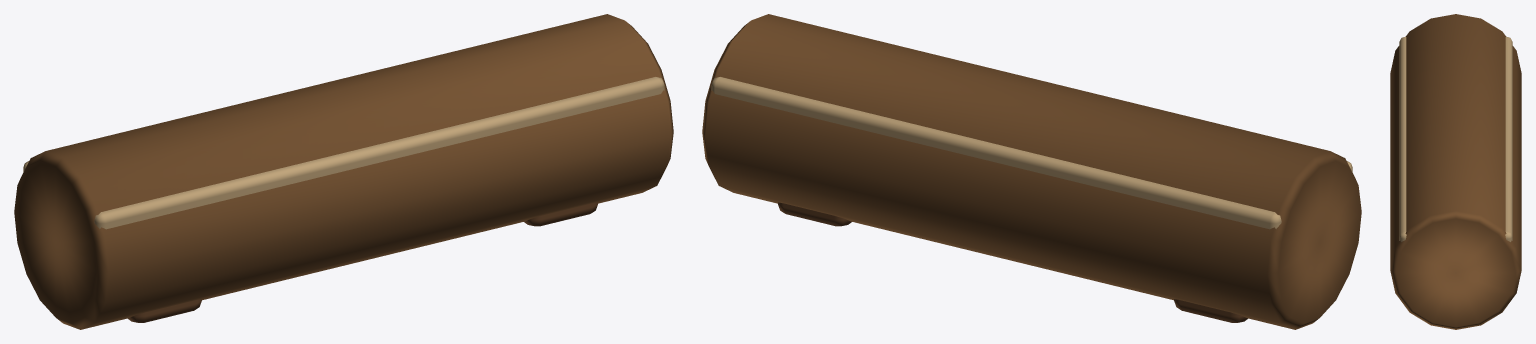
File: furn_dp_log.glb
3 renders of one model, left to right at view 1: azimuth 30°, elevation 25°; view 2: azimuth 150°, elevation 25°; view 3: azimuth 270°, elevation 25°, orthographic. The views are drawn at different scales.
Parts seen in each view (by area): view 1: furn_dp_log_main; view 2: furn_dp_log_main; view 3: furn_dp_log_main.
Part boxes in pixels (box(x1,y1,x2,y2)): furn_dp_log_main: box(14, 14, 673, 329); furn_dp_log_main: box(702, 14, 1361, 329); furn_dp_log_main: box(1390, 14, 1521, 329).
Size of the model in its own units: 1.6 by 0.44 by 0.44.
